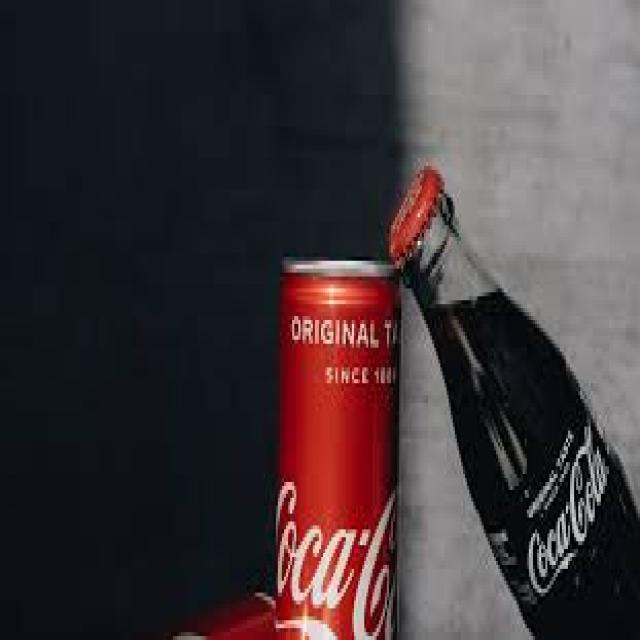Cans: (272, 245, 414, 640)
